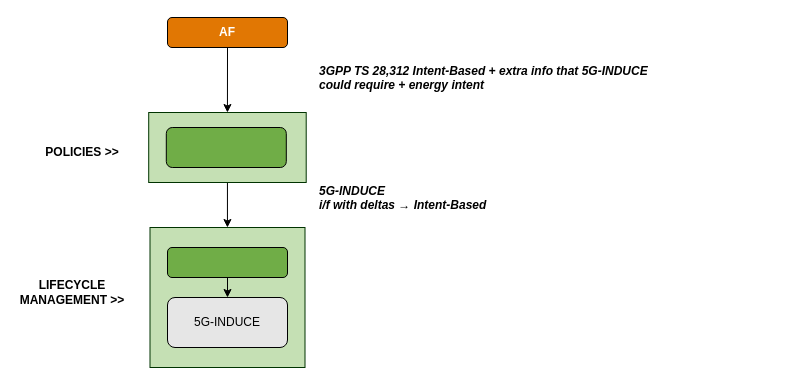
The diagram is 794 pixels wide and 385 high, and some of its shapes have lost their labels. The shapes that lost their labels are listed below. From the top down, each one's centre as x and y in pixels, then its label:
(225,147): BSS Intents (incl. DLA)
(227,262): ENIF
